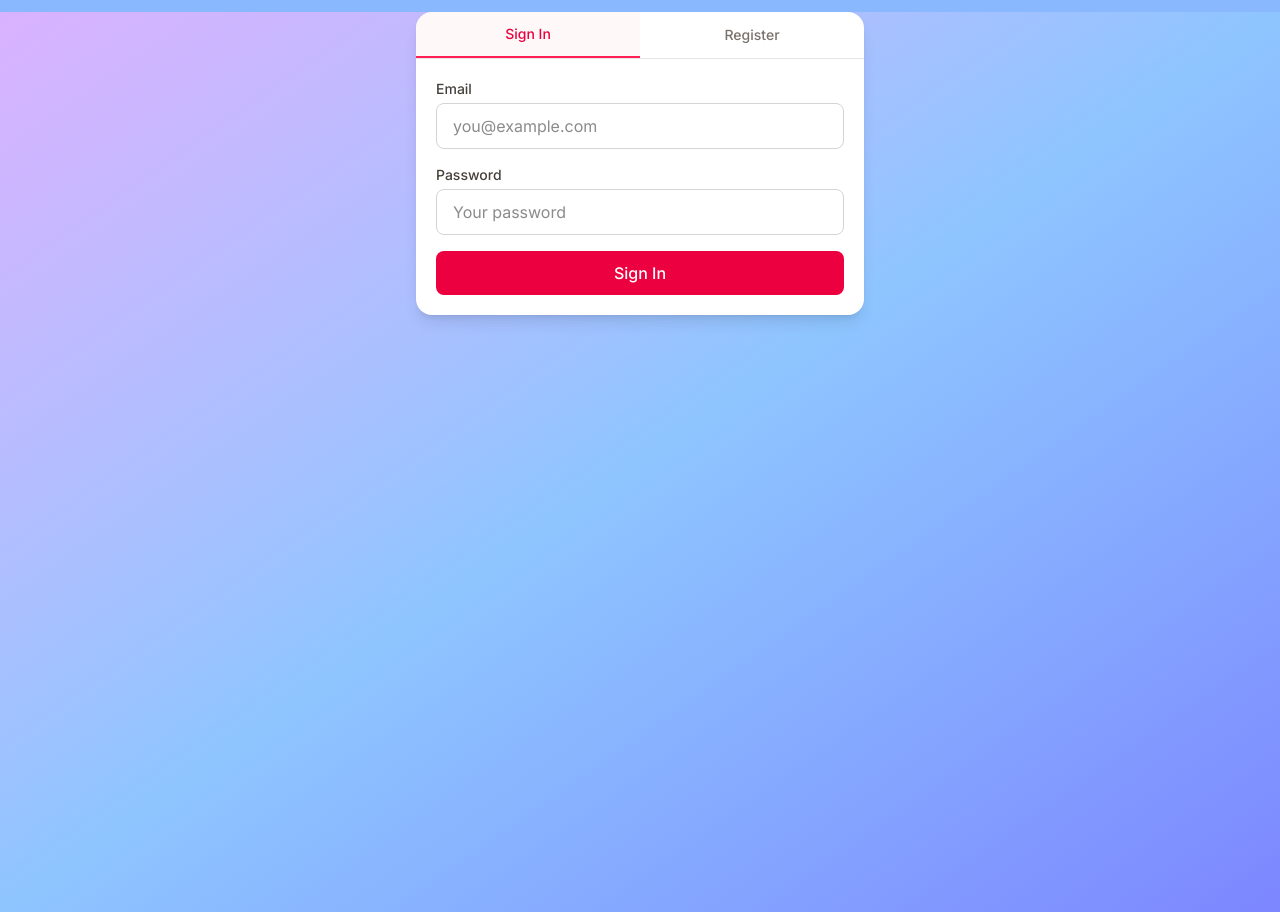
Test: AuthTabs › sign in form › shows loading state while submitting
Type "test@example.com" into the field labelled "Email" at (640, 126), box left=436, top=103, right=844, bottom=149
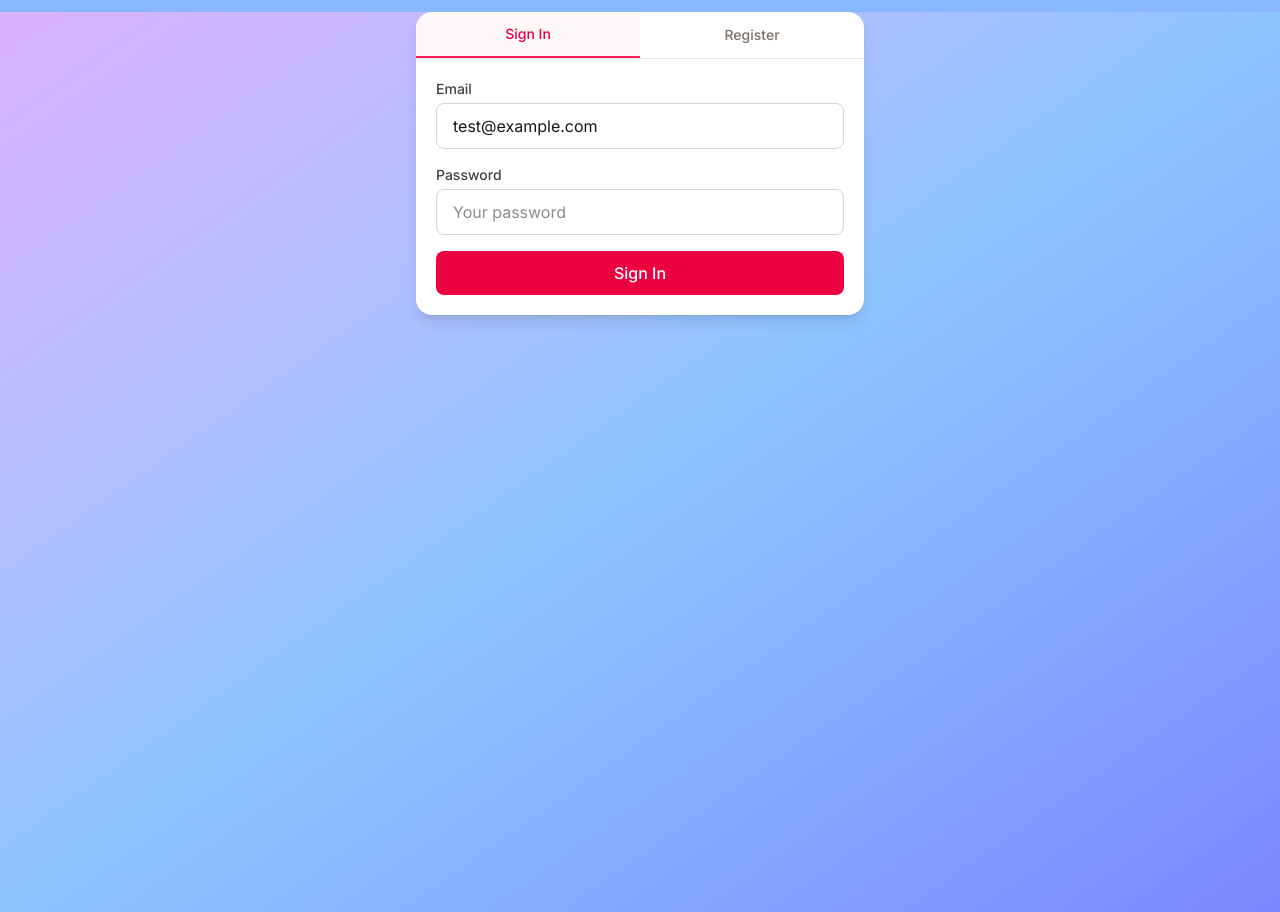
Type "password123" into the password field labelled "Password" at (640, 212), box left=436, top=189, right=844, bottom=235
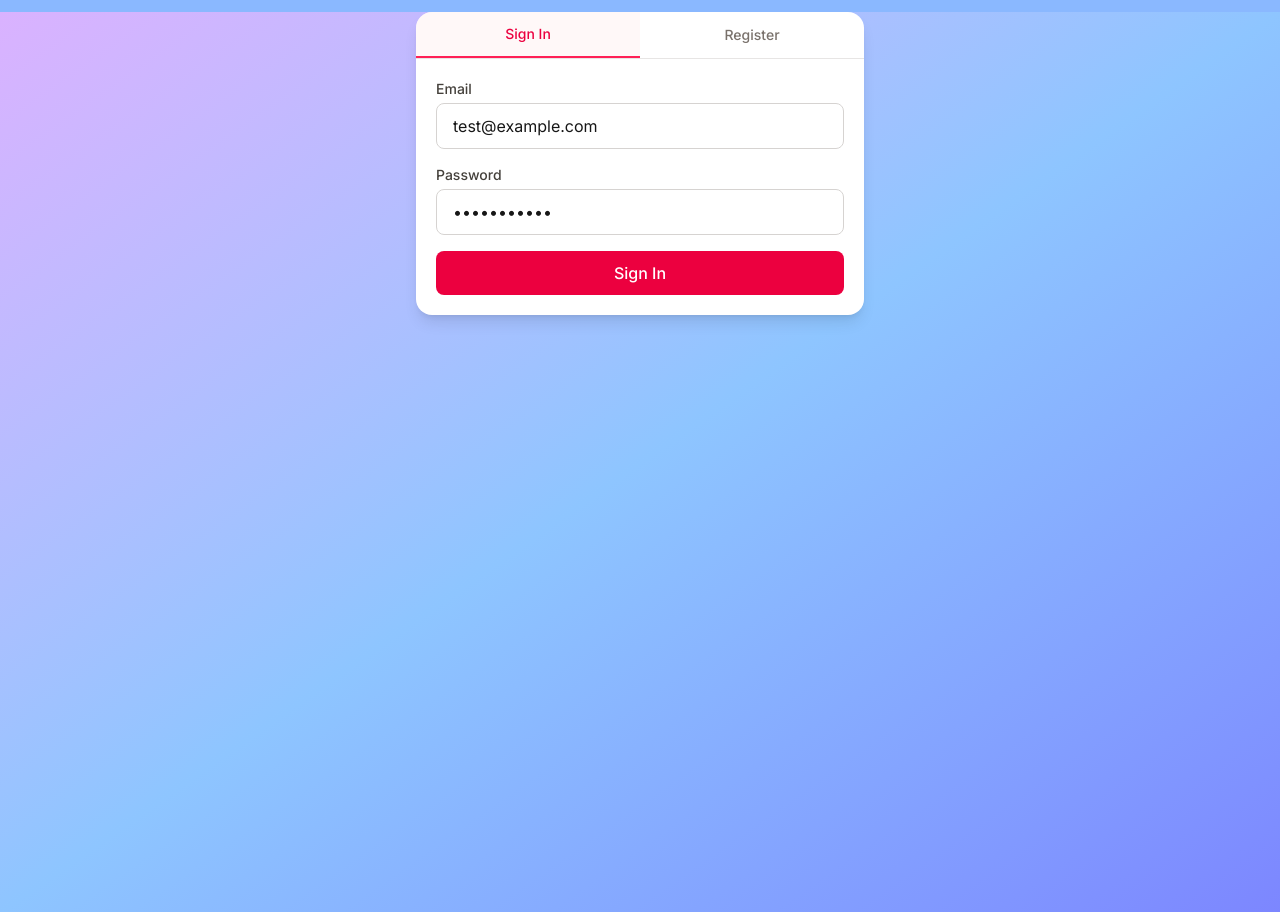
// Submit the form
Submit the form labelled "Email", box left=436, top=79, right=844, bottom=295
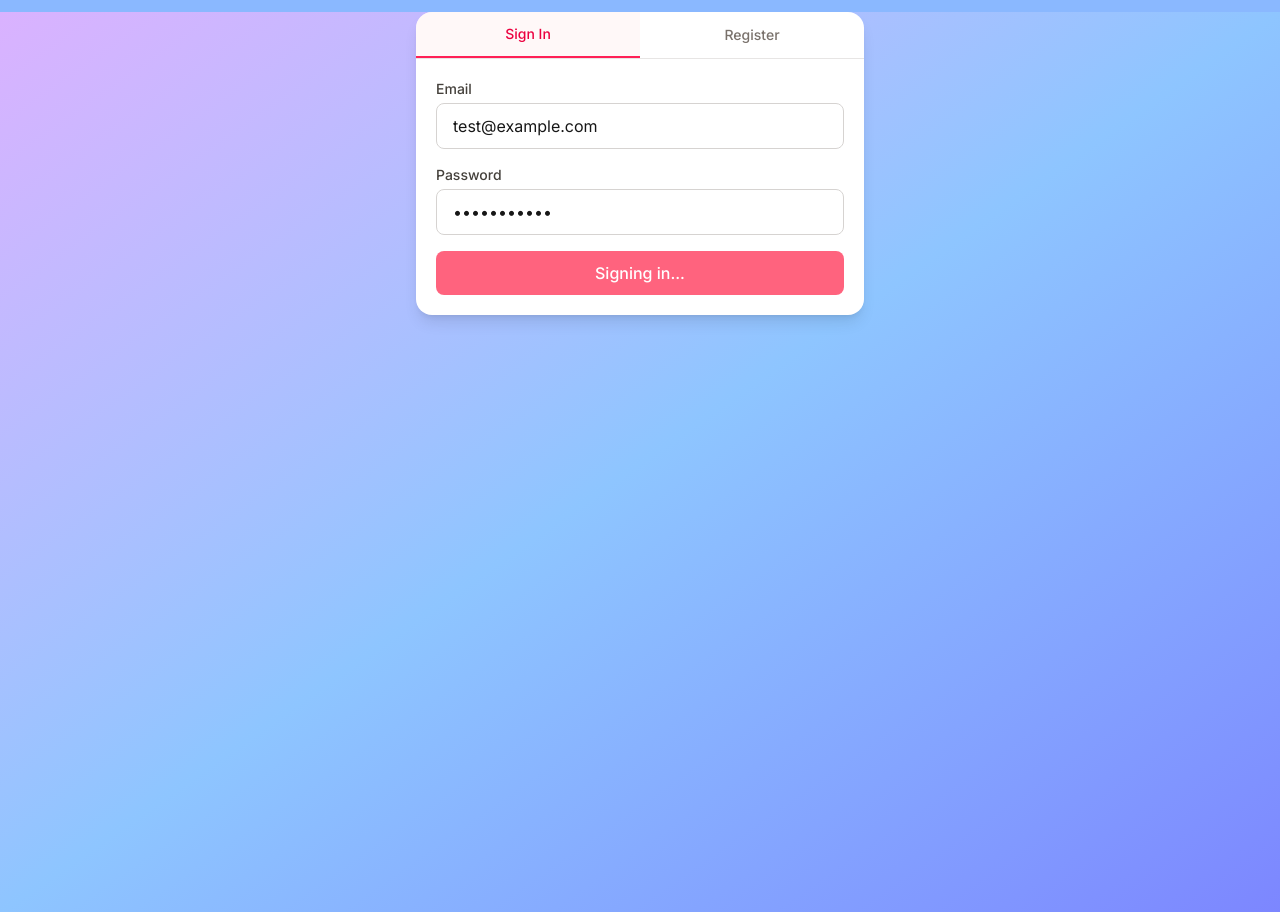
Expected: the button "Signing in..." is disabled, left=436, top=251, right=844, bottom=295
